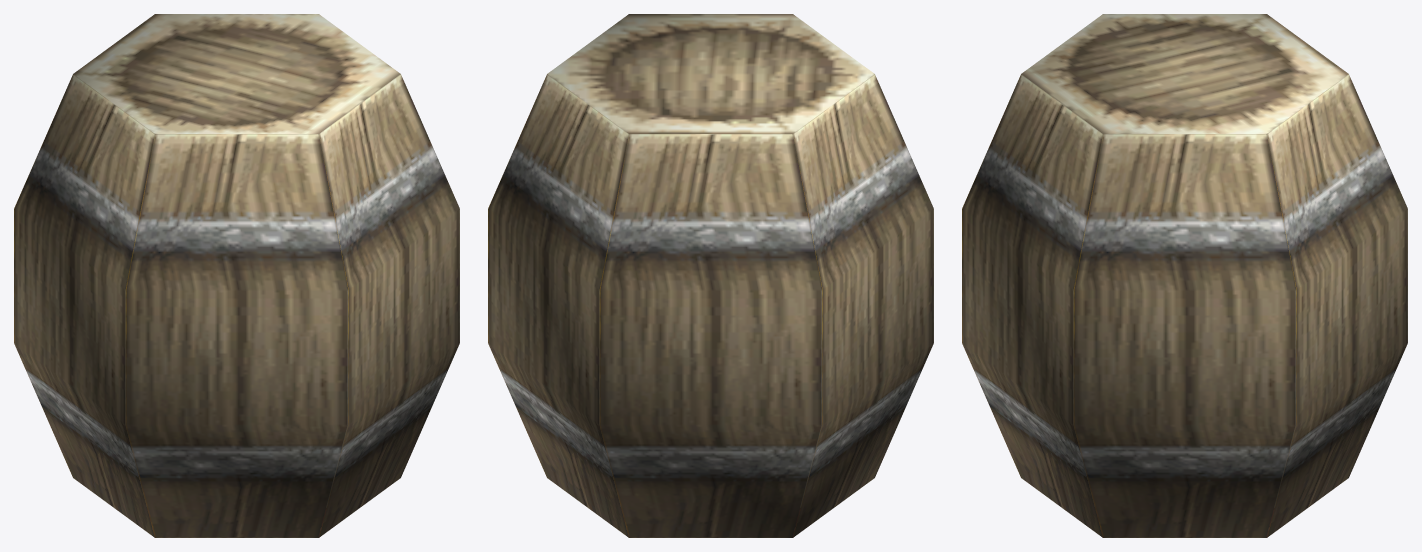
Rendered from westfallbarrel01.glb.
3 renders of one model, left to right at view 1: azimuth 30°, elevation 25°; view 2: azimuth 150°, elevation 25°; view 3: azimuth 270°, elevation 25°, orthographic.
Bounding box in the file's own units: 0.8592 × 0.9921 × 0.9921.
Materials: 1 (1 with a texture image).
